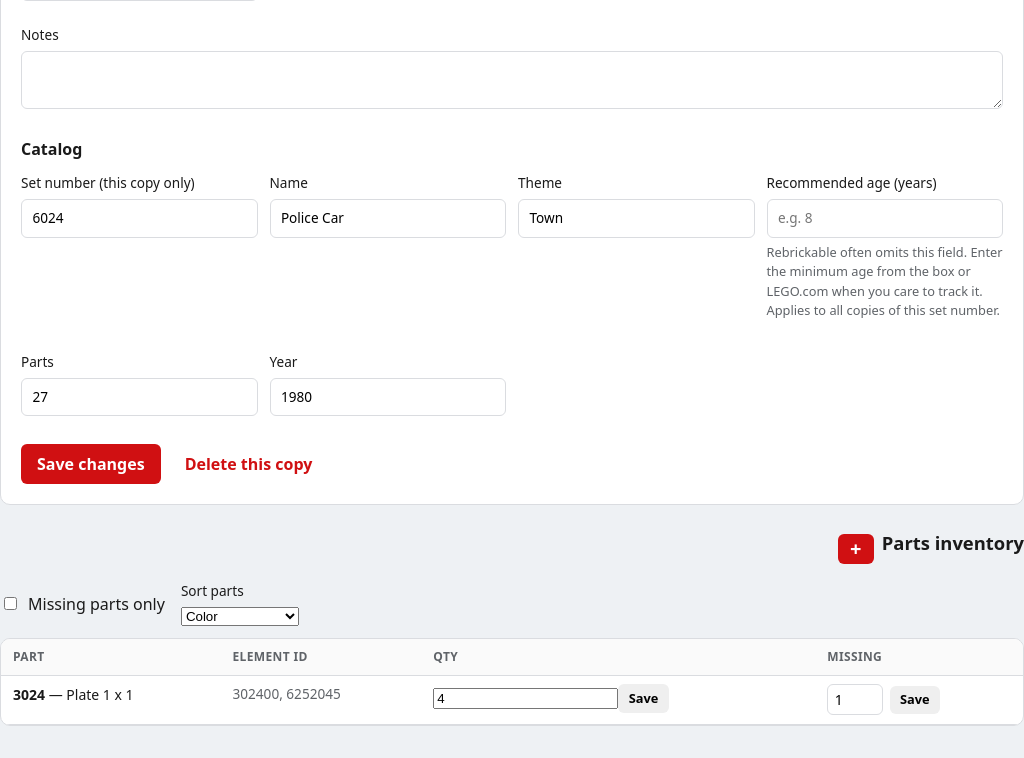
Test: SetDetailPage › opens add part modal from toolbar
(page scrolled)
Click the button named "add part" at (856, 549), box x1=838 y1=534 x2=874 y2=564
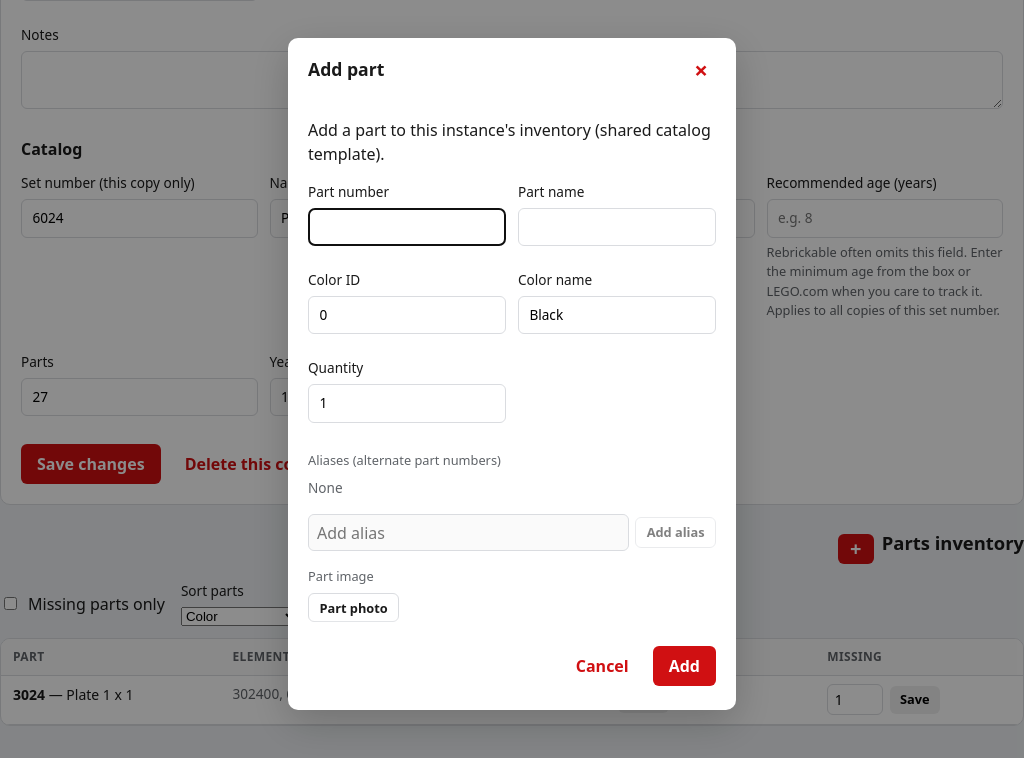
Result: the heading "Add part" is shown at x1=308 y1=56 x2=384 y2=83
Result: the button "Add" is shown at x1=653 y1=646 x2=716 y2=686
